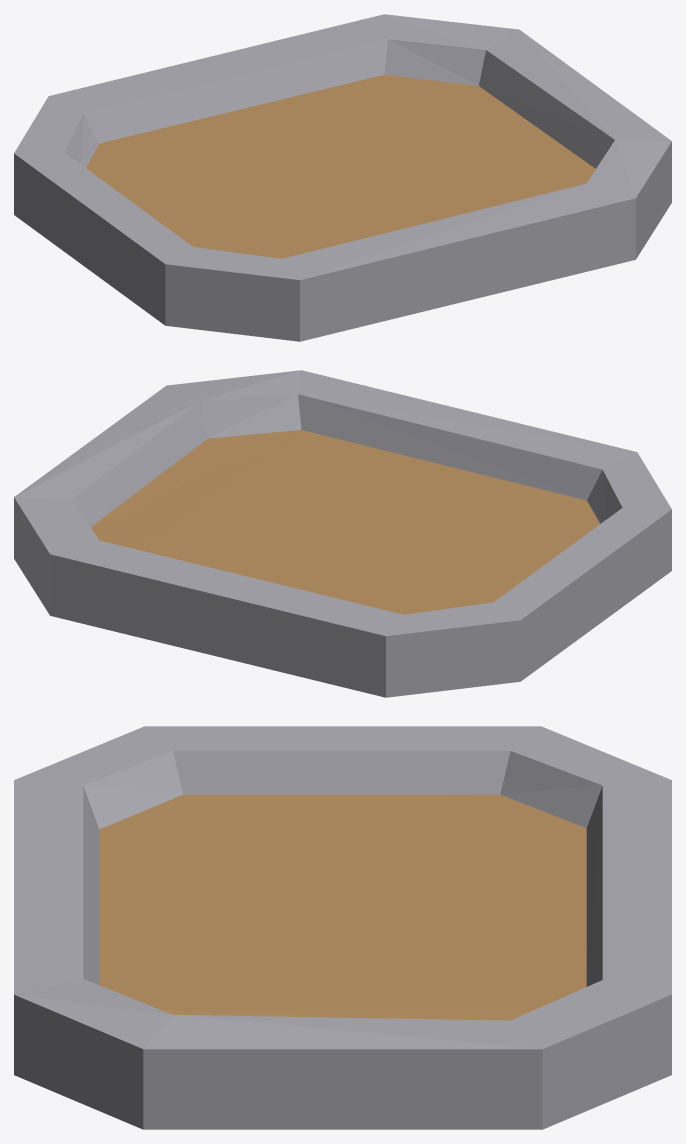
File: trees_bed_1.fbx
3 views of the same model, one above another, from view 1: azimuth 30°, elevation 25°; view 2: azimuth 150°, elevation 25°; view 3: azimuth 270°, elevation 25° (orthographic). The views are drawn at different scales.
Parts seen in each view (by area): view 1: trees_bed_1; view 2: trees_bed_1; view 3: trees_bed_1.
Part boxes in pixels (x1,y1,x2,y2): trees_bed_1: (14, 14, 671, 341); trees_bed_1: (14, 370, 671, 697); trees_bed_1: (14, 726, 671, 1129).
Bounding box in the file's own units: 404 × 50.06 × 348.
